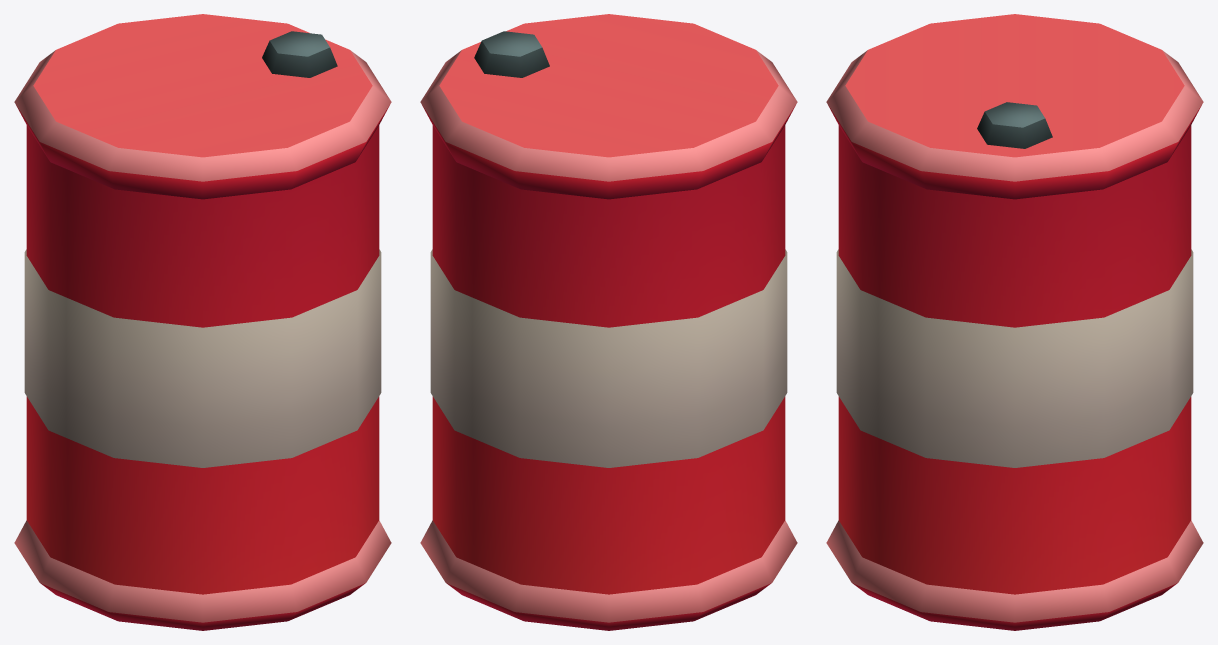
File: Barrel_1A.fbx
3 views of the same model, side by side, from view 1: azimuth 30°, elevation 25°; view 2: azimuth 150°, elevation 25°; view 3: azimuth 270°, elevation 25° (orthographic).
Visible parts, largest first — view 1: Barrel_1A; view 2: Barrel_1A; view 3: Barrel_1A.
Boxes of the visible parts, box(x1,y1,x2,y2) form: Barrel_1A: box(14, 14, 391, 630); Barrel_1A: box(420, 14, 797, 630); Barrel_1A: box(826, 14, 1203, 630).
Bounding box in the file's own units: 0.8664 × 1.25 × 0.8664.
